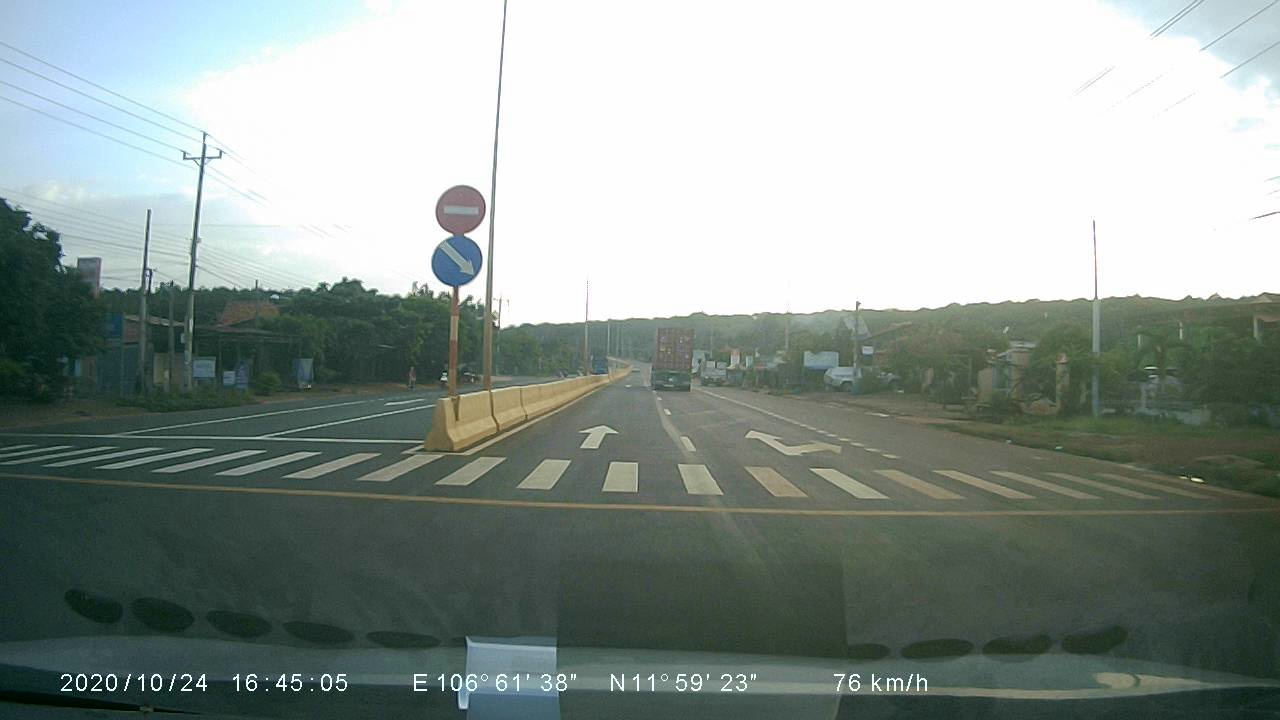Cam di nguoc chieu: (433, 179, 491, 236)
Huong di phai re phai: (428, 235, 482, 286)
